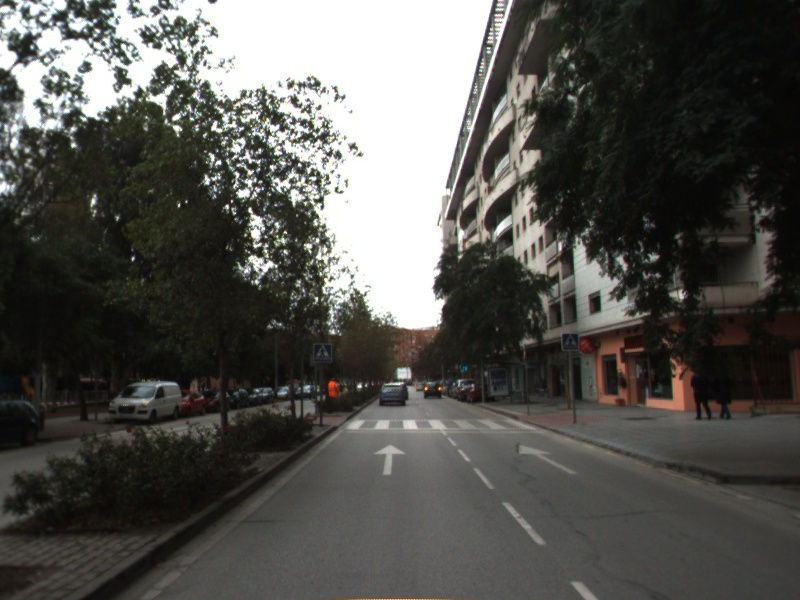STRAIGHT: (516, 442, 582, 476), (372, 443, 409, 477)
